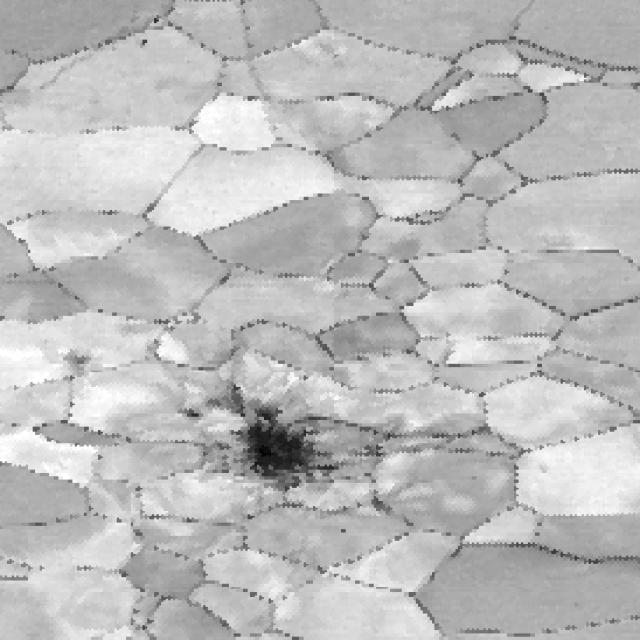good_void: (168, 381, 349, 505), (58, 339, 99, 375), (134, 34, 153, 50), (92, 451, 110, 463), (147, 14, 162, 25)
